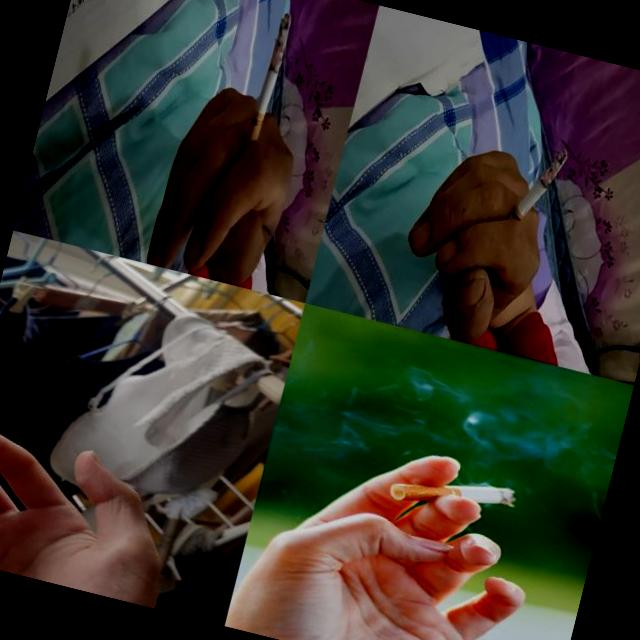cigarette: (232, 8, 294, 189), (388, 460, 518, 528), (500, 138, 570, 243), (0, 357, 37, 494)
